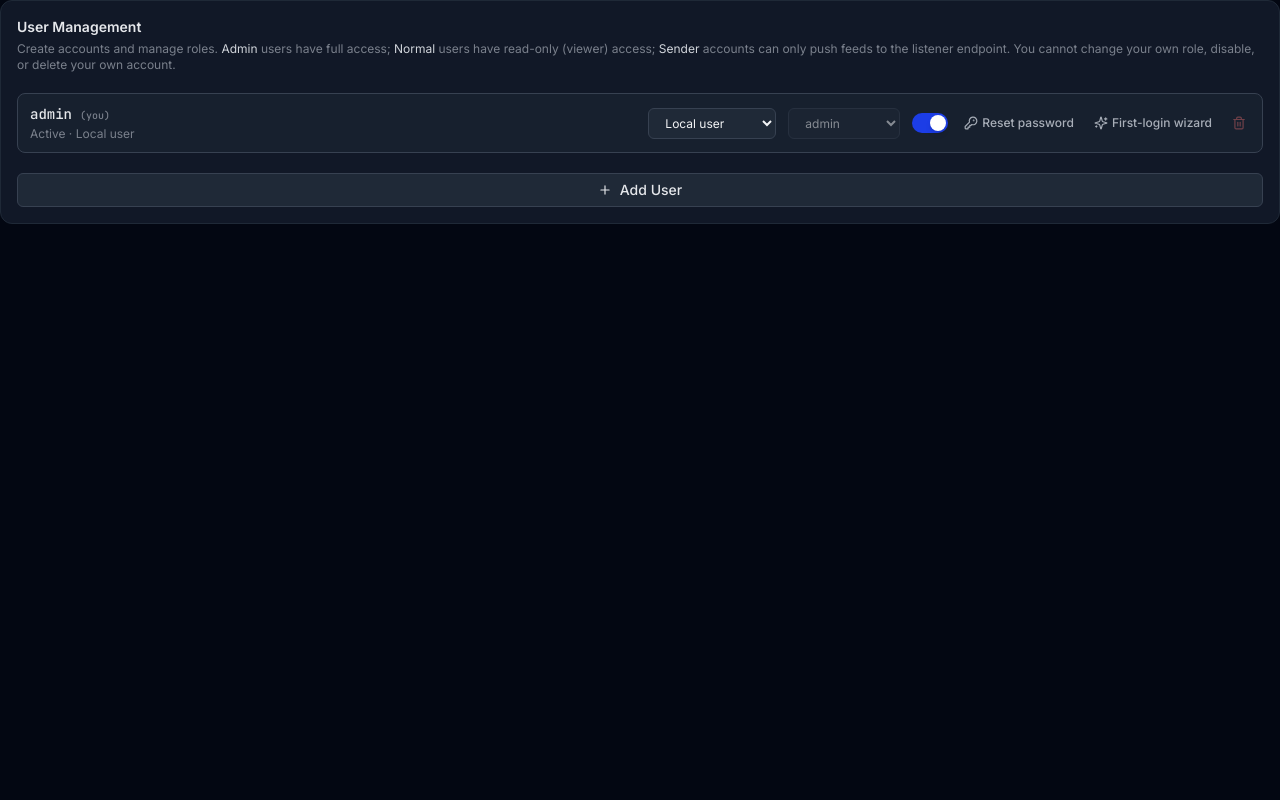
Test: UserManagementTab organizations › create form: no org selected submits org_id null and shows the created username notice
The width and height of the screenshot is (1280, 800).
Click the button "Add User": (640, 190) 17,173 -> 1263,207
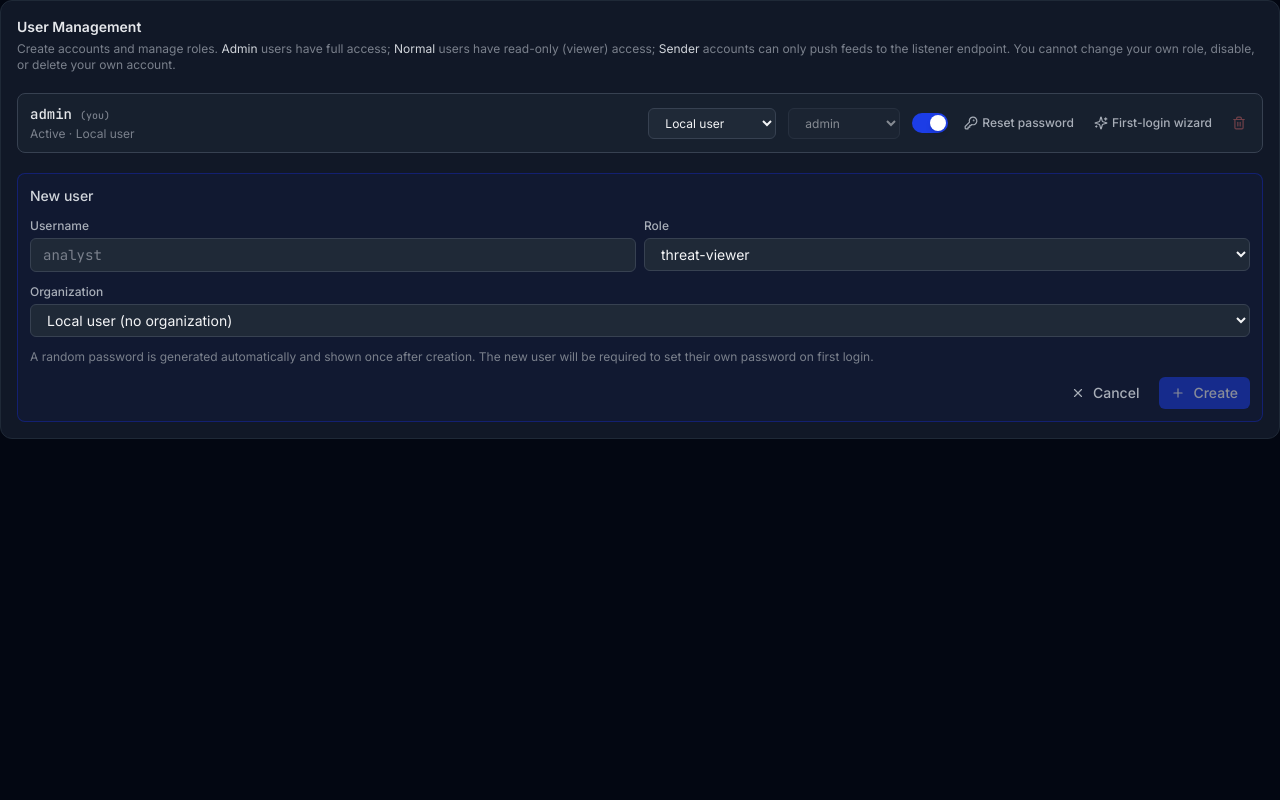
In the field labelled "Username": (333, 255) 30,238 -> 636,272, type "carol"
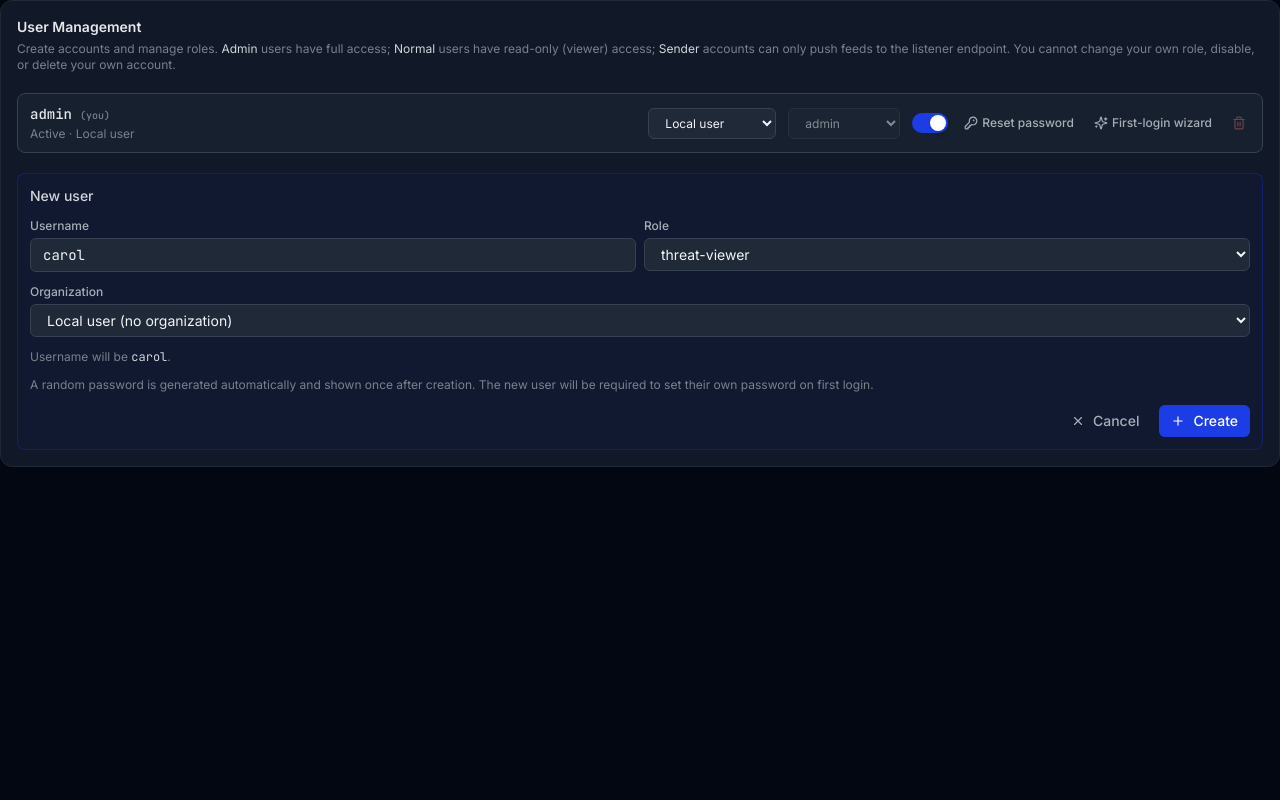
Click the button "Create": (1205, 421) 1159,405 -> 1250,437
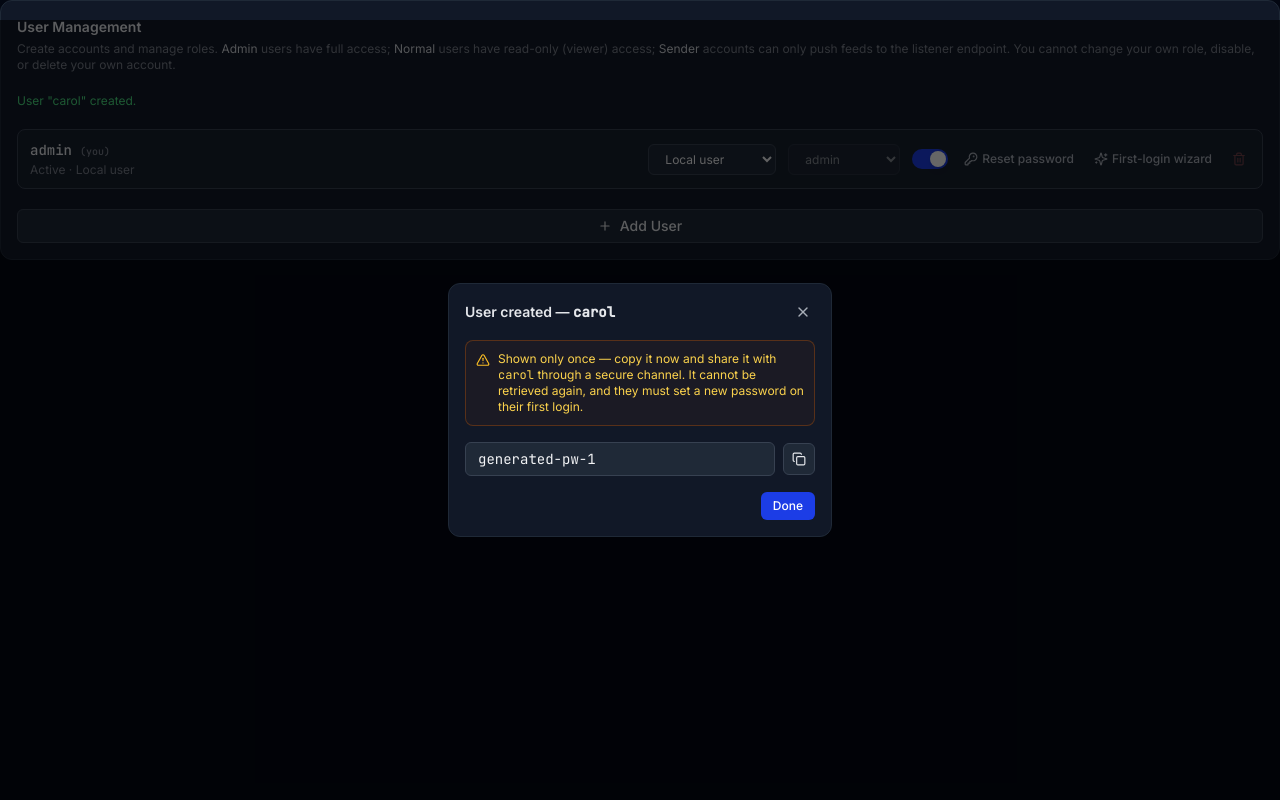
Expected: the text "User \"carol\" created." is shown, 17,93 -> 136,108
